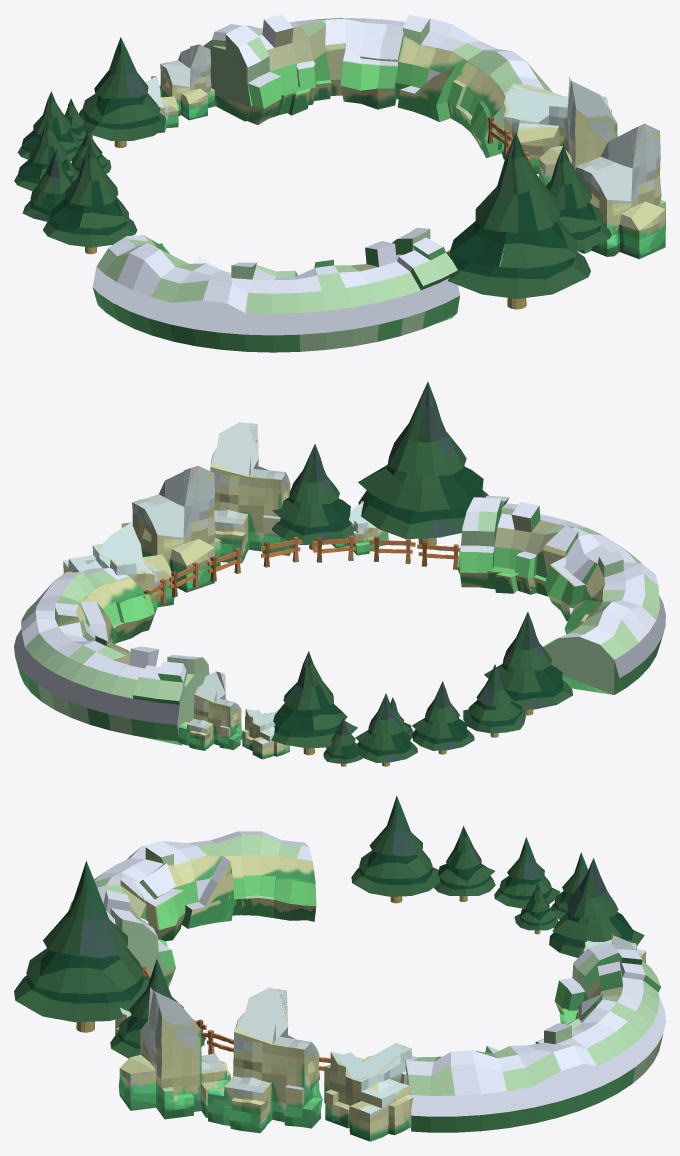
File: duck-Island.glb
3 renders of one model, top to bottom at view 1: azimuth 30°, elevation 25°; view 2: azimuth 150°, elevation 25°; view 3: azimuth 270°, elevation 25°, orthographic. The views are drawn at different scales.
Parts seen in each view (by area): view 1: Torus.001, Torus, Cylinder.001, Cube.033, Cylinder.006, Cylinder.002, Cube.030, Cube.031, Cylinder.009, Cube, Cylinder.007, Cylinder.004 (+3 smaller); view 2: Torus.001, Torus, Cylinder.001, Cube.033, Cube.031, Cylinder.009, Cylinder.002, Cylinder.006, Cube.030, Cube, Cylinder.004, Cylinder.007 (+4 smaller); view 3: Torus, Torus.001, Cylinder.001, Cube.031, Cube.033, Cube.030, Cylinder.006, Cylinder.002, Cylinder.004, Cylinder.007, Cylinder.009, Cylinder.005 (+1 smaller).
Part boxes in pixels (bbox=[...]): Torus.001: bbox=[92, 228, 459, 352]; Torus: bbox=[203, 14, 552, 158]; Cylinder.001: bbox=[448, 132, 590, 309]; Cube.033: bbox=[575, 123, 665, 259]; Cylinder.006: bbox=[43, 143, 137, 254]; Cylinder.002: bbox=[79, 37, 165, 147]; Cube.030: bbox=[496, 84, 611, 173]; Cube.031: bbox=[538, 76, 617, 185]; Cylinder.009: bbox=[545, 145, 611, 250]; Cube: bbox=[159, 44, 214, 120]; Cylinder.007: bbox=[14, 120, 78, 191]; Cylinder.004: bbox=[22, 149, 73, 221]; Torus.001: bbox=[457, 495, 665, 694]; Torus: bbox=[14, 567, 209, 745]; Cylinder.001: bbox=[358, 382, 488, 545]; Cube.033: bbox=[210, 422, 293, 563]; Cube.031: bbox=[132, 465, 220, 592]; Cylinder.009: bbox=[272, 444, 354, 550]; Cylinder.002: bbox=[271, 651, 357, 755]; Cylinder.006: bbox=[484, 612, 572, 715]; Cube.030: bbox=[63, 522, 174, 613]; Cube: bbox=[178, 671, 242, 750]; Cylinder.004: bbox=[463, 664, 525, 737]; Cylinder.007: bbox=[412, 681, 474, 754]; Torus: bbox=[405, 941, 665, 1132]; Torus.001: bbox=[68, 831, 316, 987]; Cylinder.001: bbox=[14, 861, 150, 1032]; Cube.031: bbox=[208, 987, 322, 1133]; Cube.033: bbox=[118, 987, 230, 1119]; Cube.030: bbox=[324, 1042, 413, 1141]; Cylinder.006: bbox=[351, 795, 439, 903]; Cylinder.002: bbox=[549, 858, 644, 957]; Cylinder.004: bbox=[434, 826, 495, 901]; Cylinder.007: bbox=[494, 837, 560, 909]; Cylinder.009: bbox=[110, 959, 205, 1058]; Cylinder.005: bbox=[514, 883, 558, 934].
Bounding box in the file's own units: 53.95 × 16.58 × 56.16.
71 materials, 38 textured.
